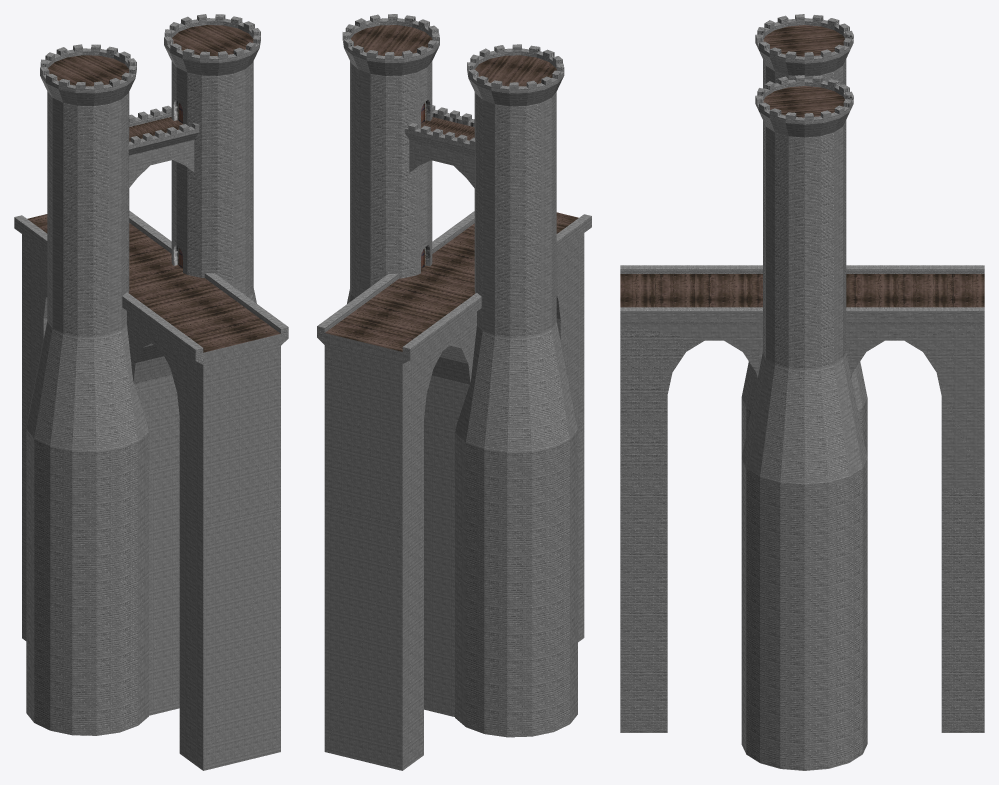
File: BridgeAddon.fbx
The picture shows the model from 3 angles, left to right: view 1: azimuth 30°, elevation 25°; view 2: azimuth 150°, elevation 25°; view 3: azimuth 270°, elevation 25°; orthographic projection.
Visible parts, largest first — view 1: BridgeAddon; view 2: BridgeAddon; view 3: BridgeAddon.
Part boxes in pixels (box(x1,y1,x2,y2)): BridgeAddon: box(14, 14, 288, 770); BridgeAddon: box(317, 14, 591, 770); BridgeAddon: box(620, 14, 984, 770).
Size of the model in its own units: 2998 by 7941 by 4045.
